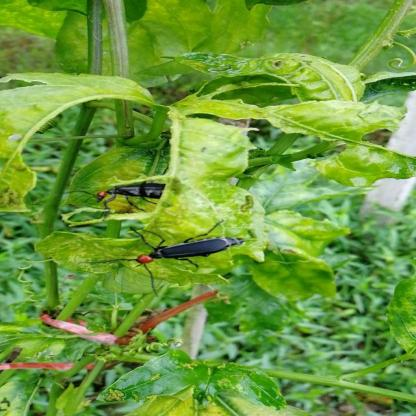beetle: (108, 229, 256, 275), (93, 183, 180, 202)
